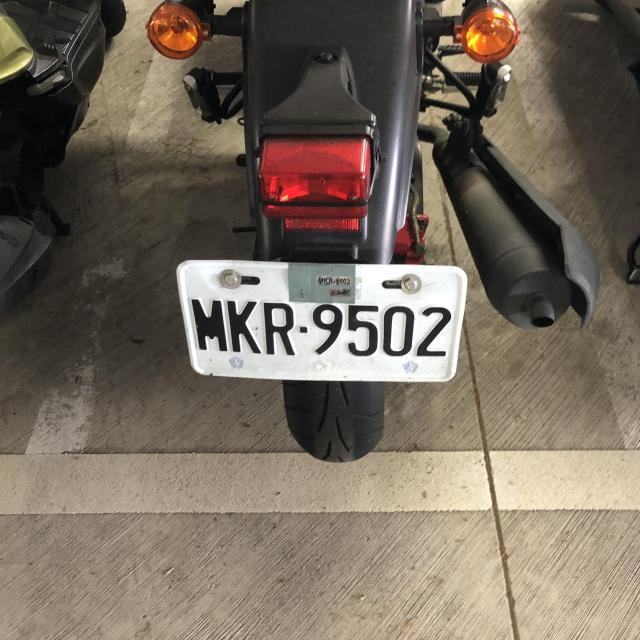W: (174, 252, 469, 390)
